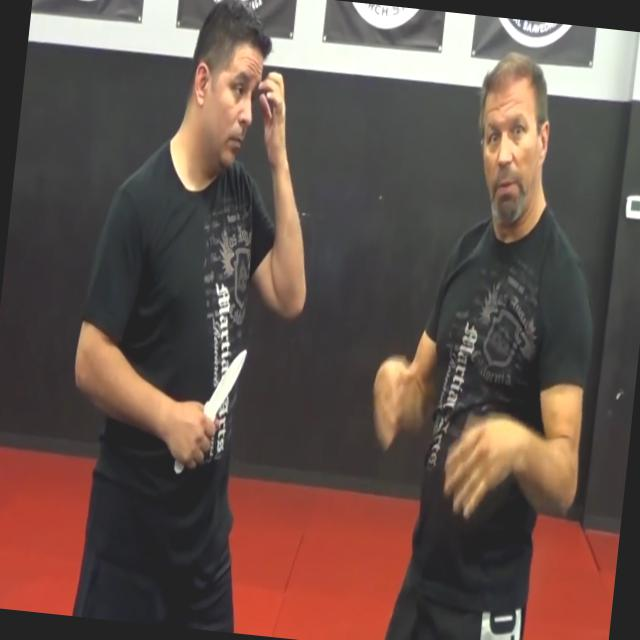knife: (165, 332, 253, 491)
